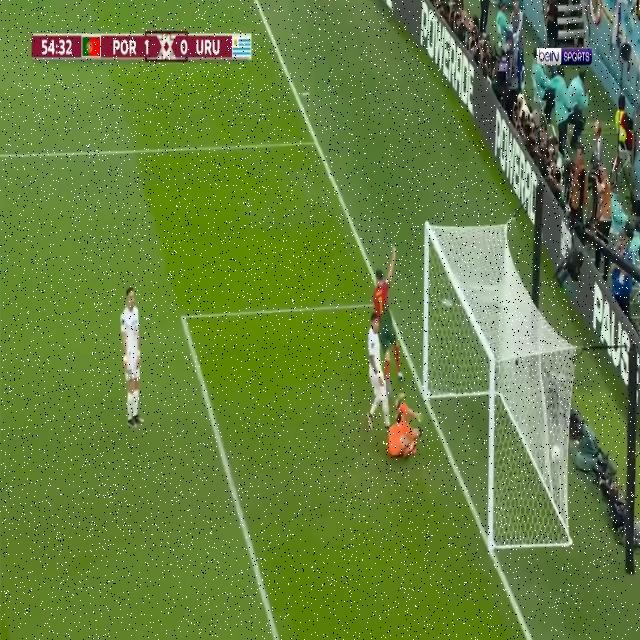Ball: (550, 443, 562, 465)
GoalKeeper: (386, 391, 422, 461)
TEAM 1: (372, 241, 405, 389)
TEAM 2: (120, 283, 144, 429), (367, 310, 392, 436)
